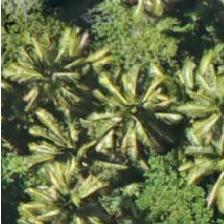Kelapa_Sawit: (91, 48, 181, 138), (0, 17, 79, 107), (33, 155, 123, 224), (175, 109, 224, 199)
